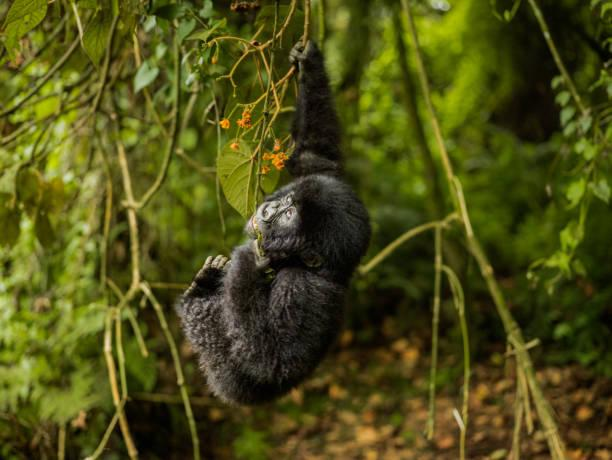goriile_montagne: (185, 169, 366, 395)
